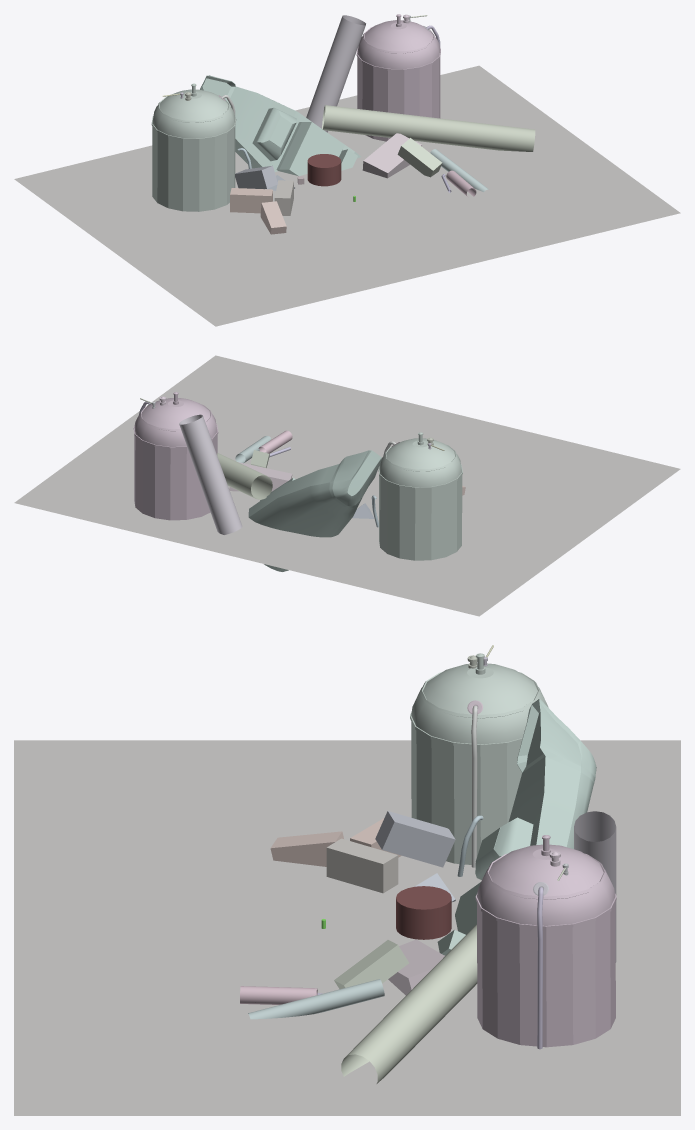
File: eislato_lin_BOSS_MAP_V1_no_history.fbx
3 views of the same model, one above another, from view 1: azimuth 30°, elevation 25°; view 2: azimuth 150°, elevation 25°; view 3: azimuth 270°, elevation 25° (orthographic). The views are drawn at different scales.
Parts seen in each view (by area): view 1: floor1, s_1_main, s_2_main, boat1, pipe_1, pipe_6, big_container_1, Boss, container_3, container_5, container_2, container_4 (+2 smaller); view 2: floor1, s_1_main, s_2_main, boat1, pipe_6, pipe_1, big_container_1; view 3: floor1, s_2_main, s_1_main, boat1, pipe_1, container_1, container_2, Boss, pipe_6, pipe_2, container_5, container_4 (+4 smaller).
Boxes of the visible parts, bbox=[...] form: floor1: bbox=[14, 65, 680, 326]; s_1_main: bbox=[151, 83, 236, 211]; s_2_main: bbox=[356, 14, 440, 141]; boat1: bbox=[200, 75, 361, 176]; pipe_1: bbox=[322, 105, 535, 151]; pipe_6: bbox=[306, 15, 365, 132]; big_container_1: bbox=[362, 133, 421, 178]; Boss: bbox=[307, 154, 341, 186]; container_3: bbox=[230, 188, 272, 213]; container_5: bbox=[397, 138, 442, 177]; container_2: bbox=[235, 165, 277, 189]; container_4: bbox=[260, 201, 286, 234]; floor1: bbox=[14, 355, 680, 616]; s_1_main: bbox=[378, 432, 462, 560]; s_2_main: bbox=[133, 392, 218, 520]; boat1: bbox=[248, 450, 381, 571]; pipe_6: bbox=[179, 414, 242, 534]; pipe_1: bbox=[217, 453, 272, 499]; big_container_1: bbox=[229, 462, 292, 491]; floor1: bbox=[14, 740, 680, 1115]; s_2_main: bbox=[475, 835, 616, 1047]; s_1_main: bbox=[410, 653, 548, 864]; boat1: bbox=[437, 699, 596, 955]; pipe_1: bbox=[341, 924, 477, 1083]; container_1: bbox=[326, 838, 398, 893]; container_2: bbox=[375, 811, 455, 867]; Boss: bbox=[396, 886, 451, 939]; pipe_6: bbox=[574, 811, 616, 962]; pipe_2: bbox=[248, 979, 384, 1019]; container_5: bbox=[334, 940, 408, 989]; container_4: bbox=[270, 831, 343, 866].
Bounding box in the file's own units: 2894 × 1021 × 2172.
